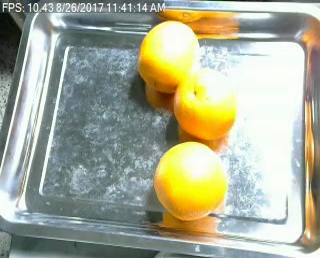Orange: (154, 139, 228, 219), (173, 68, 238, 140), (137, 18, 200, 91)
